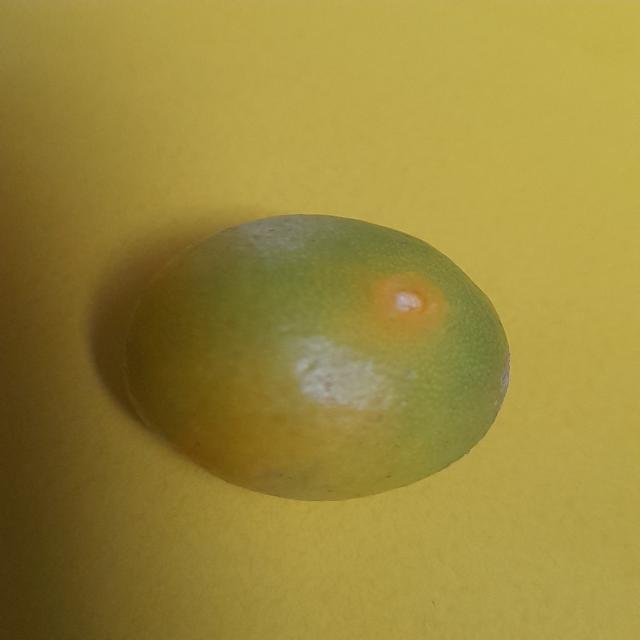greening: (118, 214, 517, 504)
